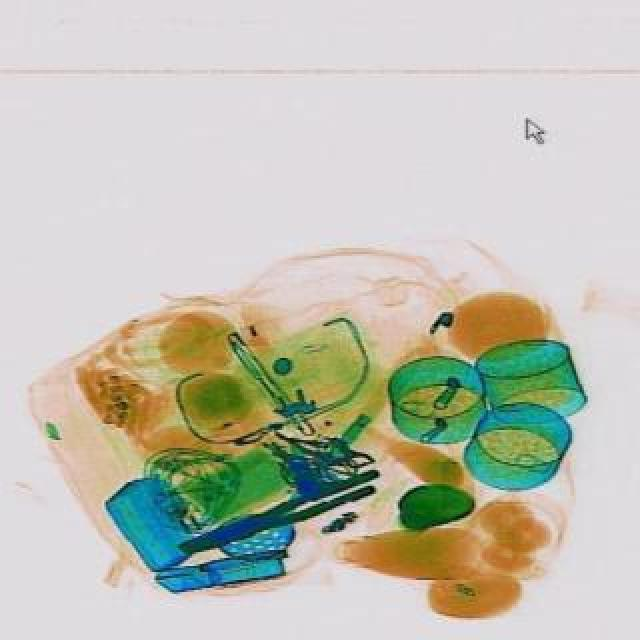wrench: (172, 464, 382, 560)
